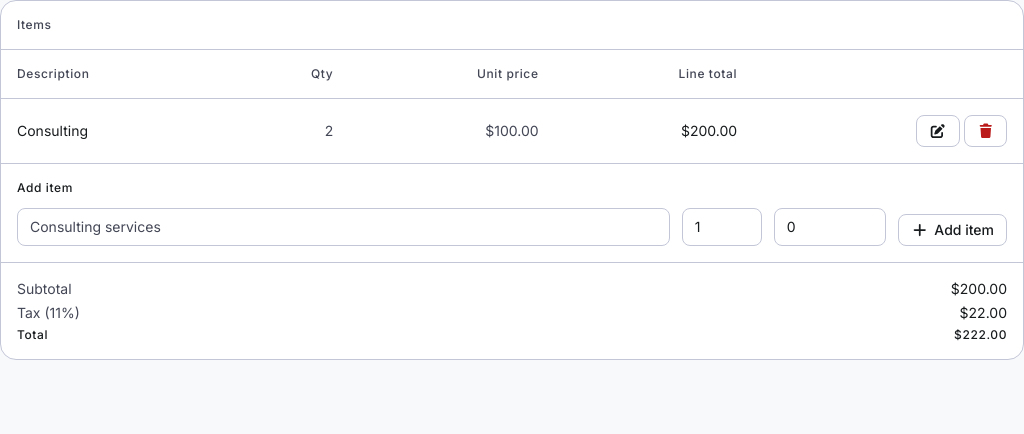
Test: InvoiceItemsEditor — error handling › surfaces a 409 as a friendly, editability-focused message
Type "Design" into the field named "Description" at (343, 227), box [17, 208, 670, 246]
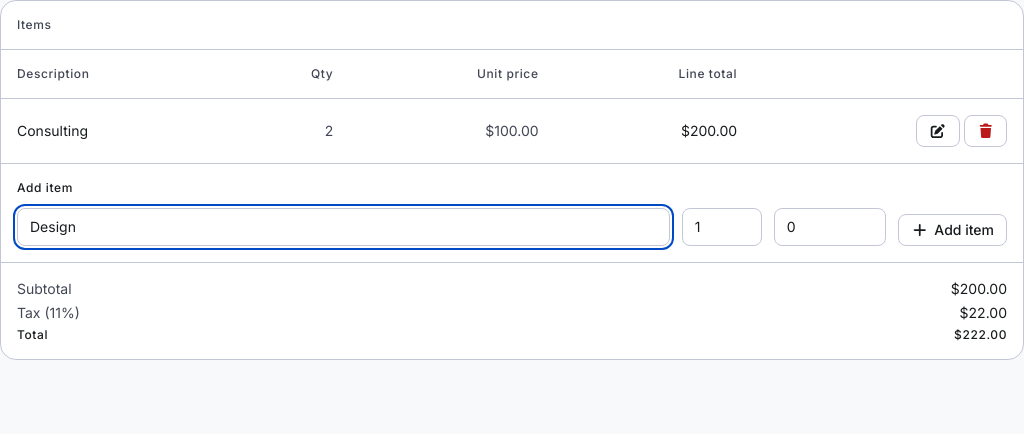
Click the button "Add item" at (952, 230), box [898, 214, 1007, 246]
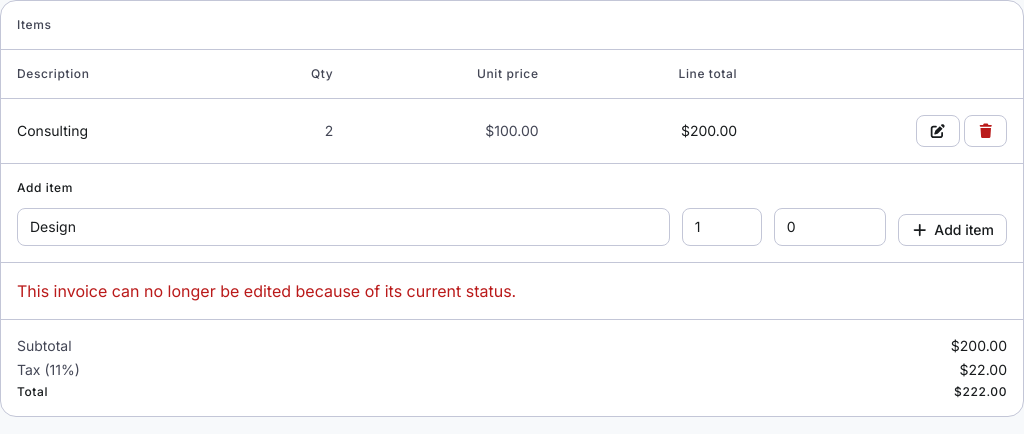
Expected: the message shows "can no longer be edited", [17, 281, 516, 301]
